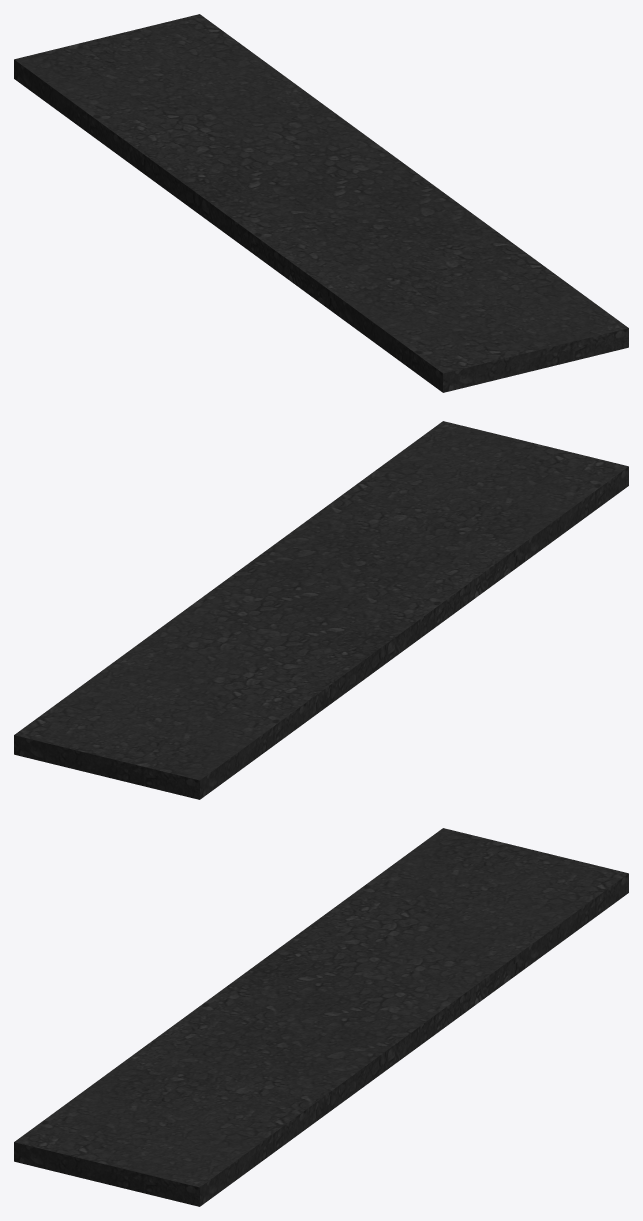
The model's file is roof_flat_1x4m.fbx.
3 views of the same model, one above another, from view 1: azimuth 30°, elevation 25°; view 2: azimuth 150°, elevation 25°; view 3: azimuth 330°, elevation 25° (orthographic).
Parts seen in each view (by area): view 1: roof_flat_1x4m; view 2: roof_flat_1x4m; view 3: roof_flat_1x4m.
Boxes of the visible parts, x1,y1,x2,y2 form: roof_flat_1x4m: [14, 14, 628, 392]; roof_flat_1x4m: [14, 421, 628, 799]; roof_flat_1x4m: [14, 828, 628, 1206].
Bounding box in the file's own units: 100 × 10 × 400.
